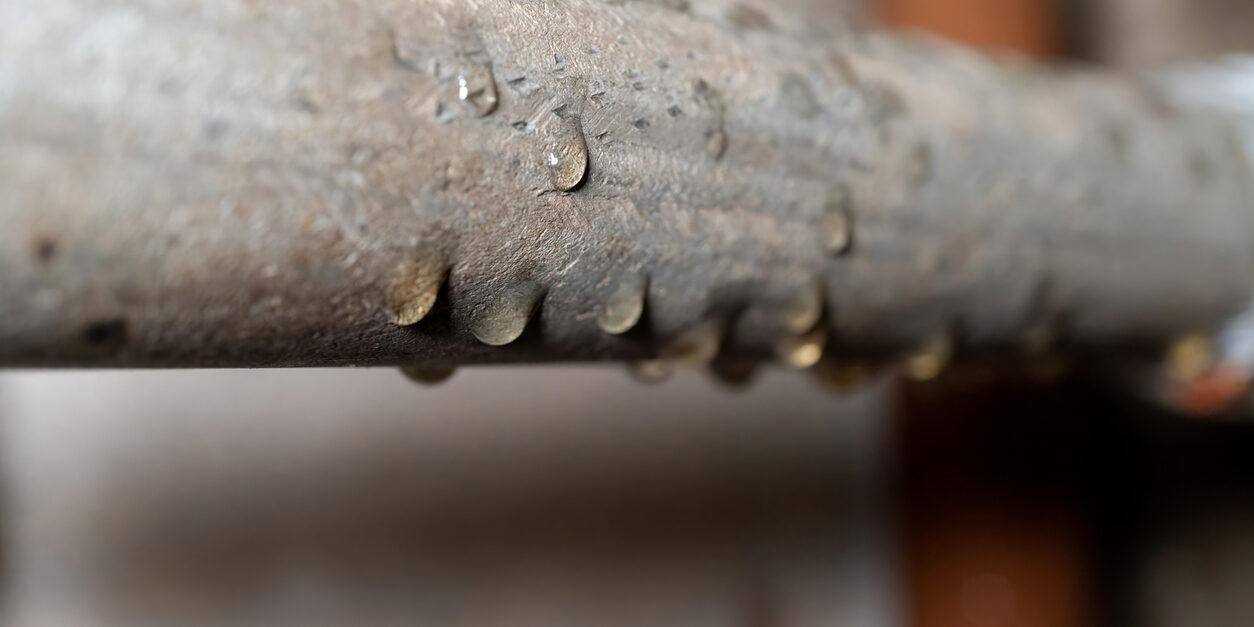water drop: (805, 360, 886, 400), (905, 335, 951, 386), (391, 356, 462, 388), (708, 358, 760, 390), (628, 355, 676, 381), (778, 335, 821, 364)
